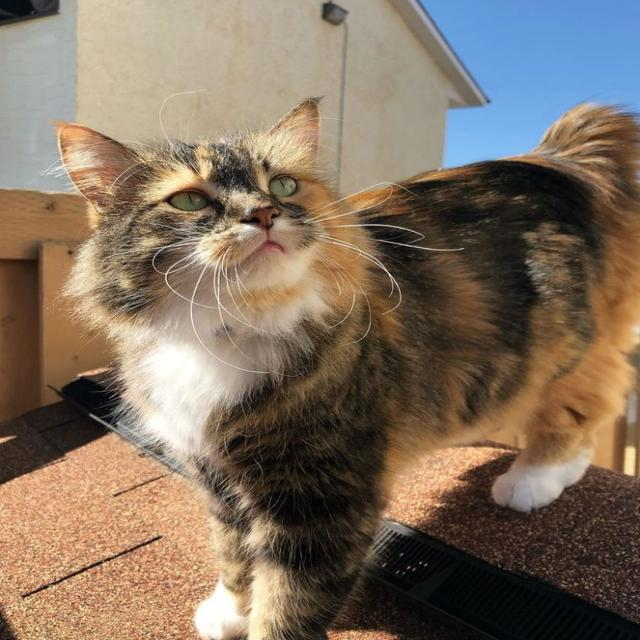American Bobtail: (52, 92, 640, 640)
